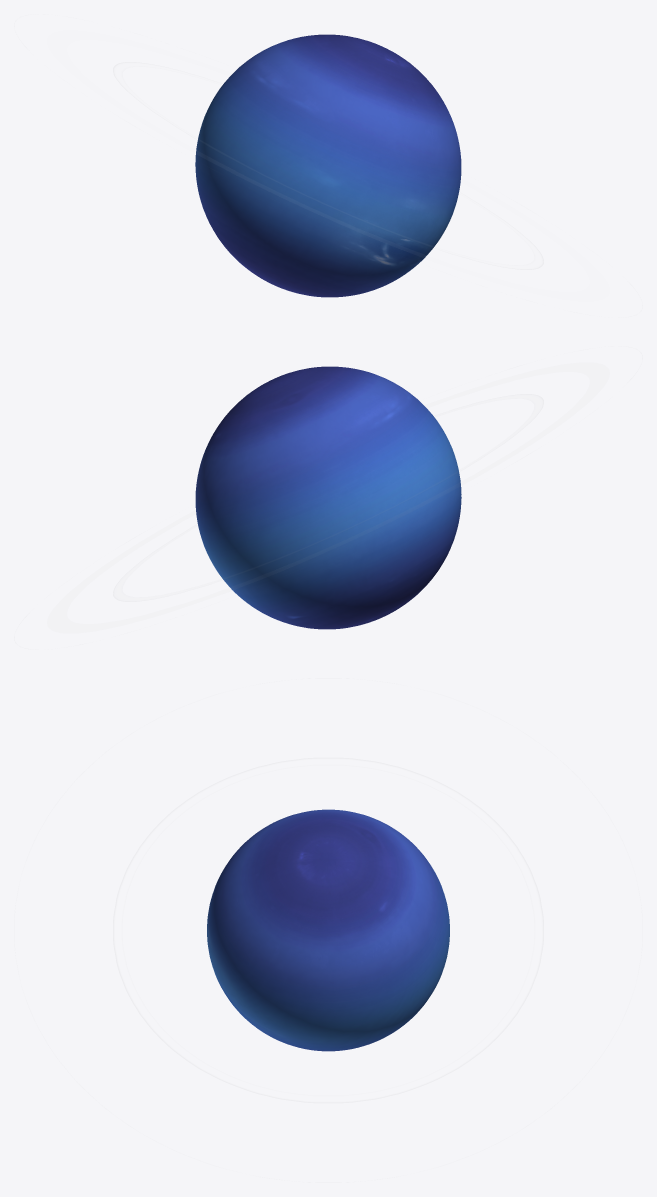
The model's file is Neptun-draco.glb.
The picture shows the model from 3 angles, top to bottom: view 1: azimuth 30°, elevation 25°; view 2: azimuth 150°, elevation 25°; view 3: azimuth 270°, elevation 25°; orthographic projection. The views are drawn at different scales.
Parts seen in each view (by area): view 1: NEPTUNE; view 2: NEPTUNE; view 3: NEPTUNE.
Boxes of the visible parts, x1,y1,x2,y2 form: NEPTUNE: (195, 34, 461, 297); NEPTUNE: (195, 366, 461, 629); NEPTUNE: (207, 809, 449, 1051).
Size of the model in its own units: 5.64 by 3.04 by 6.4.
Materials: 2 (2 with a texture image).
